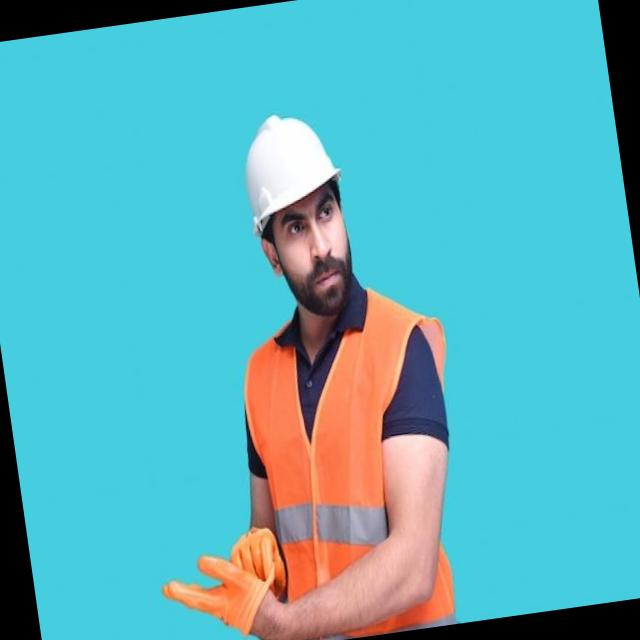Gloves: (156, 530, 275, 640), (227, 505, 296, 599)
Helmet: (234, 98, 350, 242)
Vest: (226, 297, 499, 640)
